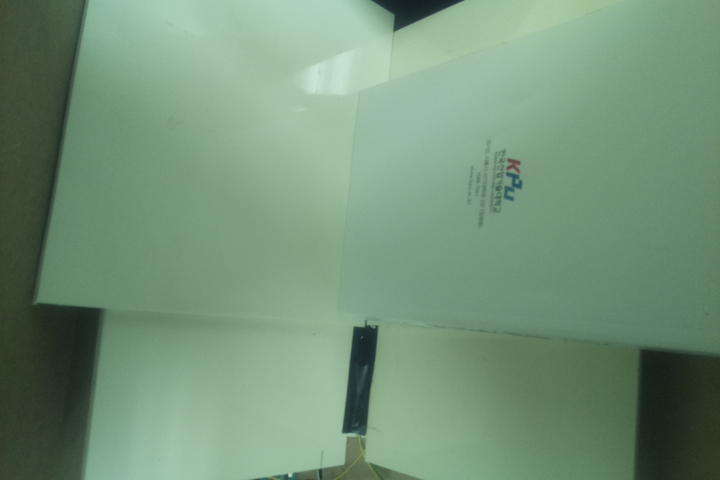book: (335, 1, 719, 365)
